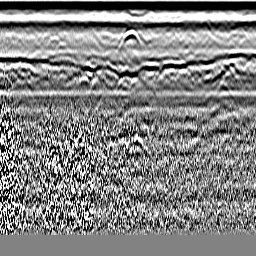cavity: (117, 27, 142, 47)
